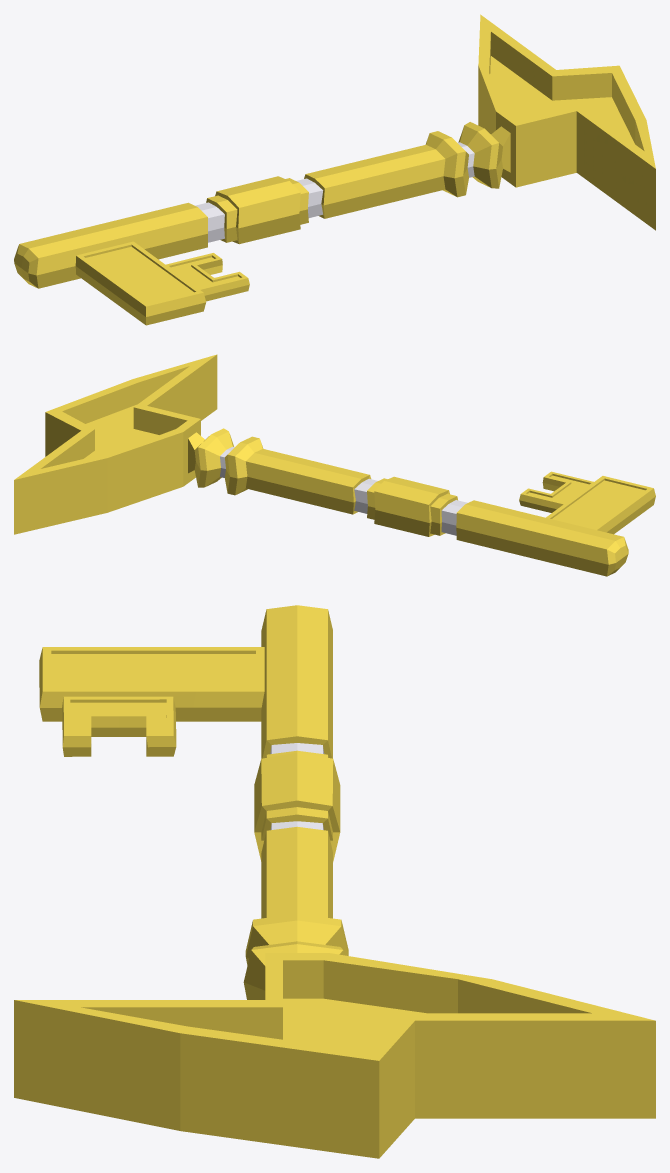
Rendered from SM_Key_Energy.fbx.
The picture shows the model from 3 angles, top to bottom: view 1: azimuth 30°, elevation 25°; view 2: azimuth 150°, elevation 25°; view 3: azimuth 270°, elevation 25°; orthographic projection. The views are drawn at different scales.
Parts seen in each view (by area): view 1: SM_Key_Energy; view 2: SM_Key_Energy; view 3: SM_Key_Energy.
Boxes of the visible parts, <box> form: SM_Key_Energy: <box>14,14,655,325</box>; SM_Key_Energy: <box>14,354,655,576</box>; SM_Key_Energy: <box>14,605,655,1158</box>.
Bounding box in the file's own units: 31.9 × 3.01 × 17.91.
